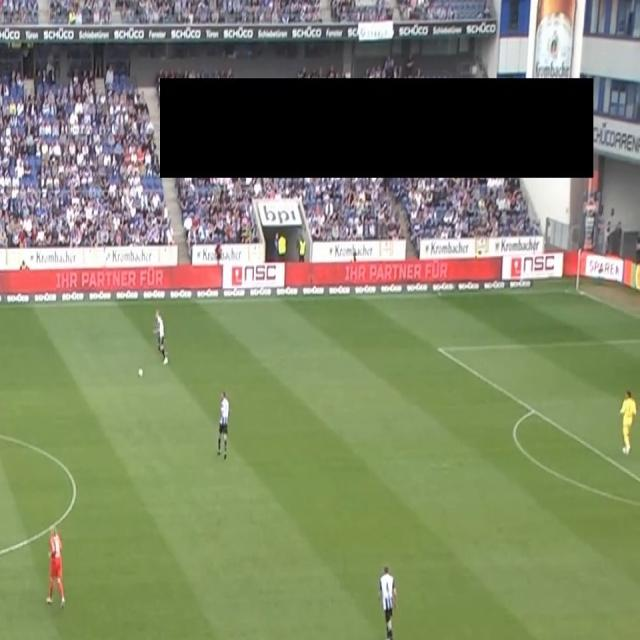ball: (138, 367, 144, 378)
